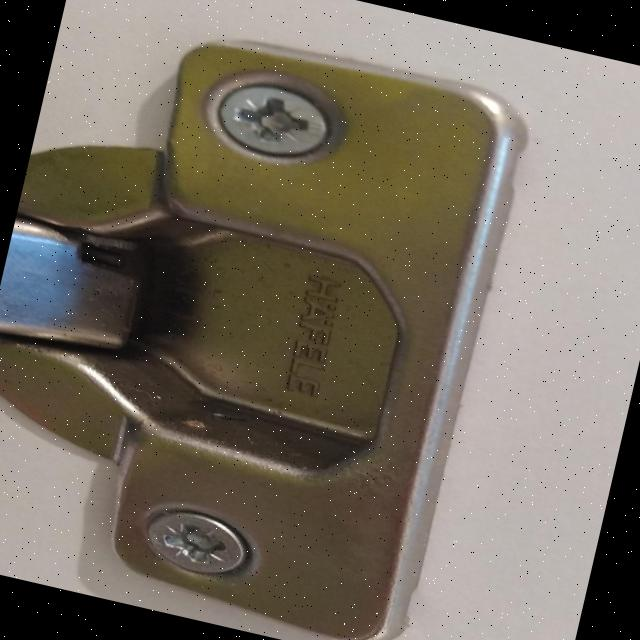Pozidriv: (184, 62, 364, 176), (116, 493, 269, 592)
